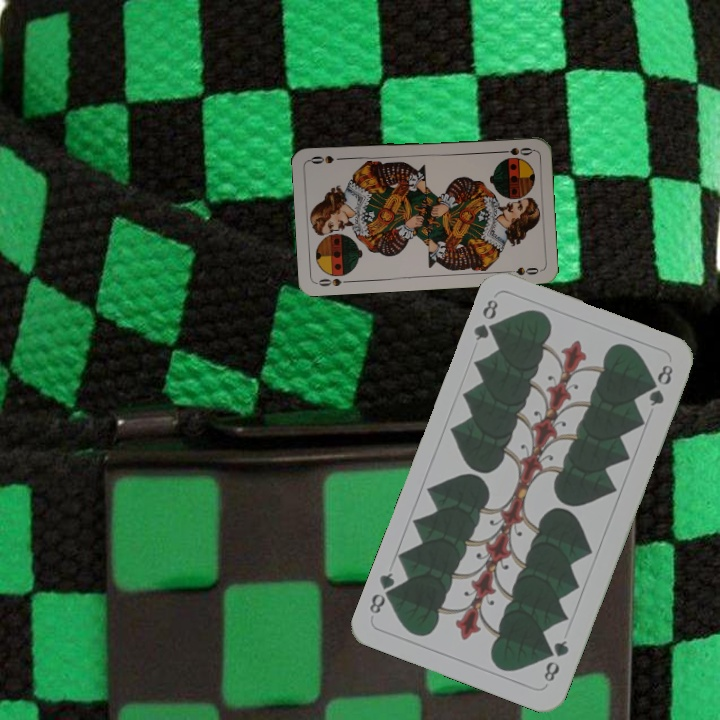G8: (539, 636, 572, 685), (469, 295, 502, 344)
SO: (313, 274, 354, 289), (495, 143, 535, 158)
